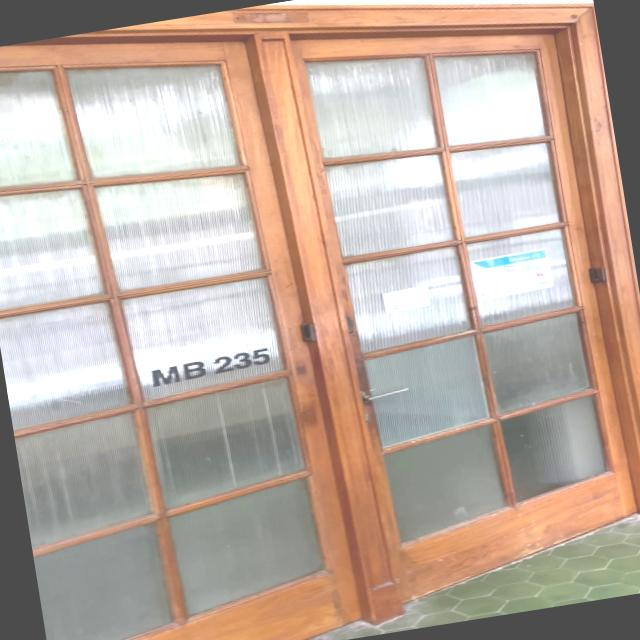room235Window: (142, 343, 276, 392)
